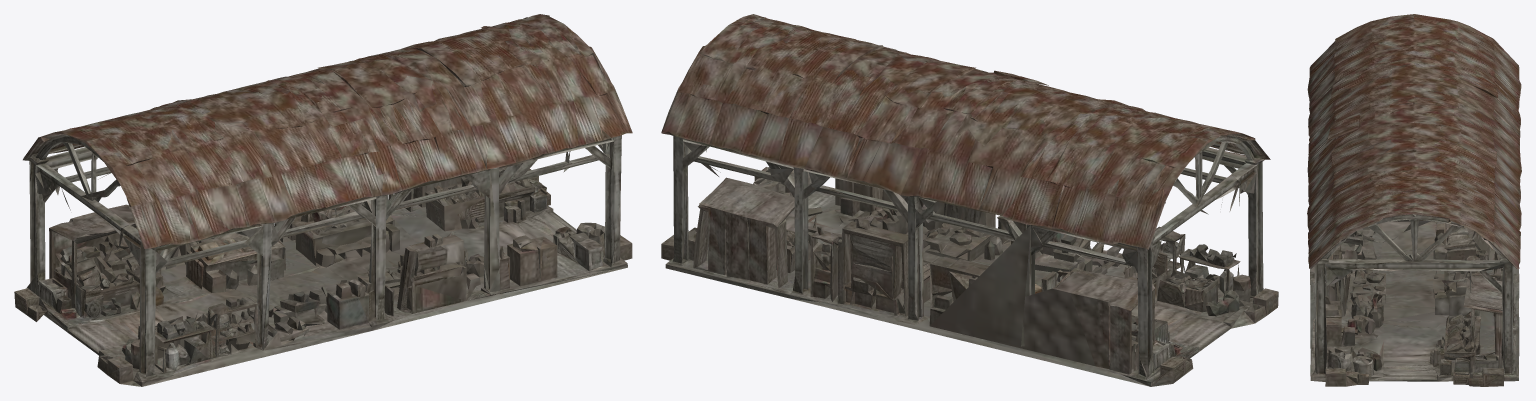
The model's file is worlportmarket.glb.
The picture shows the model from 3 angles, left to right: view 1: azimuth 30°, elevation 25°; view 2: azimuth 150°, elevation 25°; view 3: azimuth 270°, elevation 25°; orthographic projection. The views are drawn at different scales.
Visible parts, largest first — view 1: worlportmarket-centred; view 2: worlportmarket-centred; view 3: worlportmarket-centred.
Boxes of the visible parts, x1,y1,x2,y2 form: worlportmarket-centred: (14, 14, 632, 386); worlportmarket-centred: (661, 14, 1278, 386); worlportmarket-centred: (1307, 14, 1521, 386).
Size of the model in its own units: 22 by 8.23 by 9.41.
Materials: 1 (1 with a texture image).
